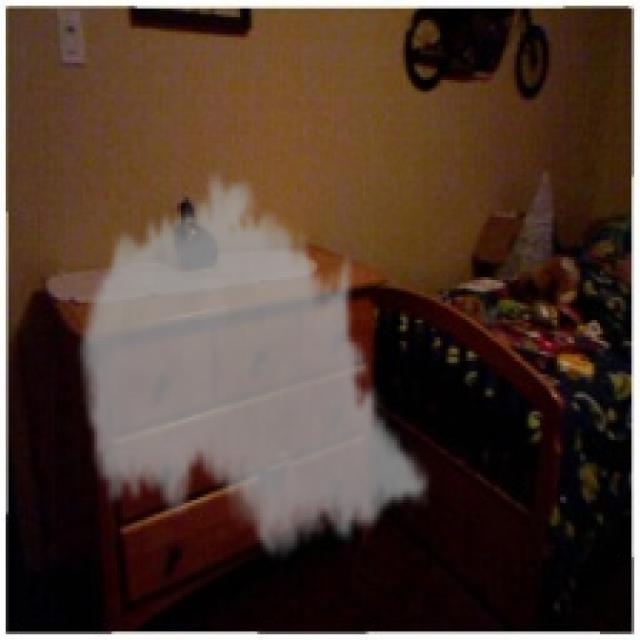smoke: (74, 166, 432, 568)
